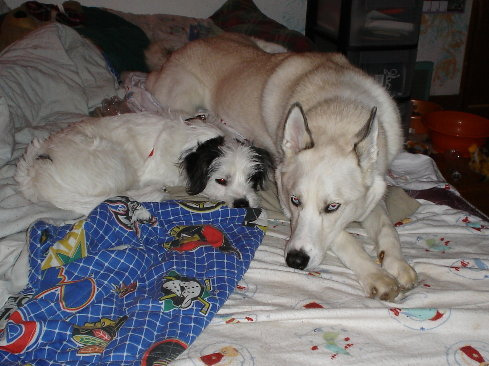dog: (147, 32, 417, 299), (14, 112, 277, 215)
